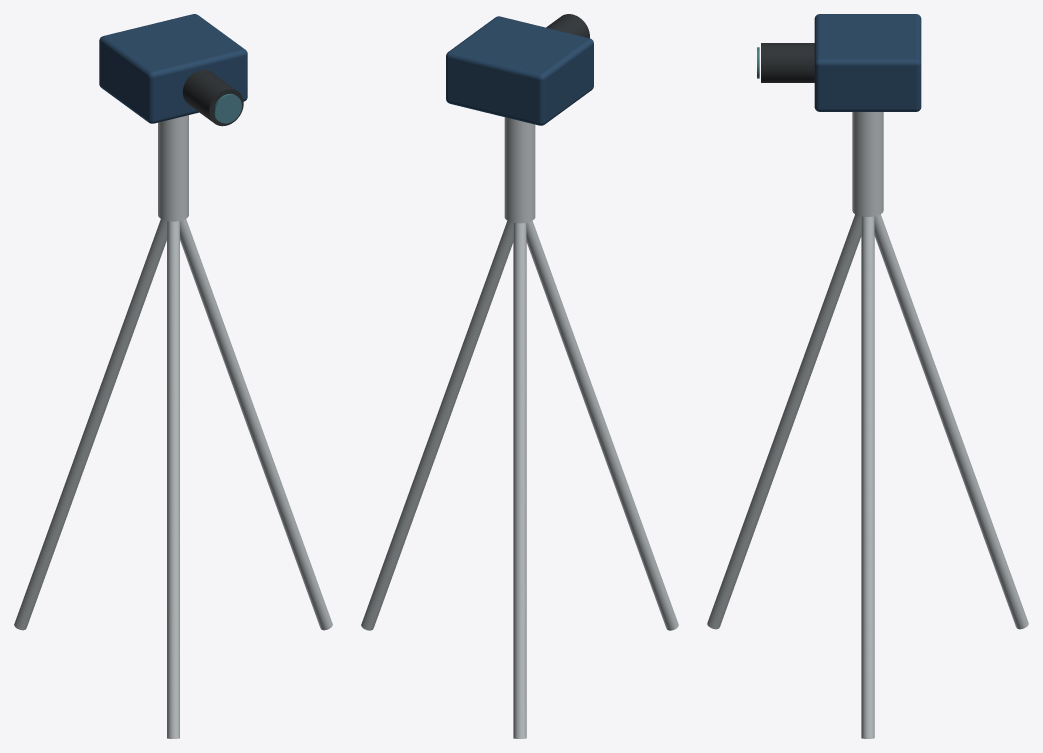
File: rowing-boathouse-and-regatta-course-finish-timing-came-2016f824__32163.glb
3 views of the same model, side by side, from view 1: azimuth 30°, elevation 25°; view 2: azimuth 150°, elevation 25°; view 3: azimuth 270°, elevation 25° (orthographic).
Visible parts, largest first — view 1: finish-timing-camera; view 2: finish-timing-camera; view 3: finish-timing-camera.
Boxes of the visible parts, left/top/right/bottom form: finish-timing-camera: left=14, top=14, right=332, bottom=738; finish-timing-camera: left=361, top=14, right=678, bottom=738; finish-timing-camera: left=707, top=14, right=1028, bottom=738.
Bounding box in the file's own units: 0.629 × 1.55 × 0.7216.
